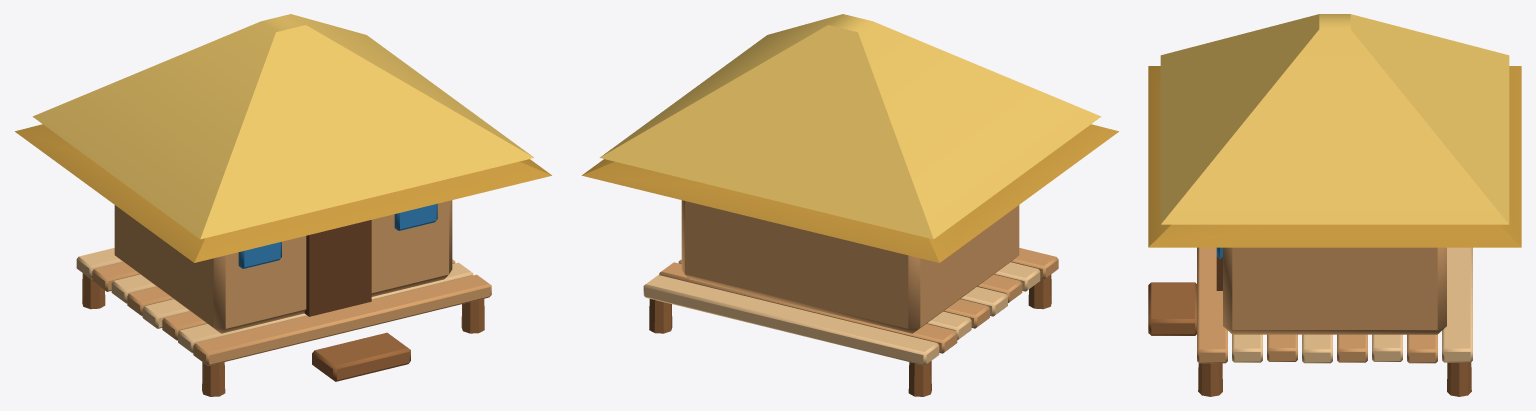
Rendered from hut.fbx.
The picture shows the model from 3 angles, left to right: view 1: azimuth 30°, elevation 25°; view 2: azimuth 150°, elevation 25°; view 3: azimuth 270°, elevation 25°; orthographic projection. The views are drawn at different scales.
Parts seen in each view (by area): view 1: hut; view 2: hut; view 3: hut.
Boxes of the visible parts, left/top/right/bottom form: hut: left=15, top=14, right=551, bottom=396; hut: left=582, top=14, right=1118, bottom=396; hut: left=1148, top=14, right=1521, bottom=396.
Size of the model in its own units: 1.38 by 1.08 by 1.2.
